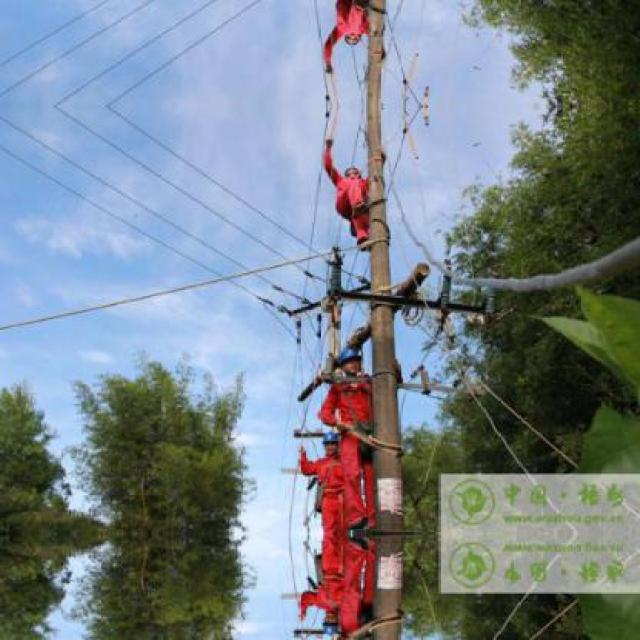helmet: (333, 342, 365, 378), (318, 611, 344, 637), (319, 426, 343, 454)
